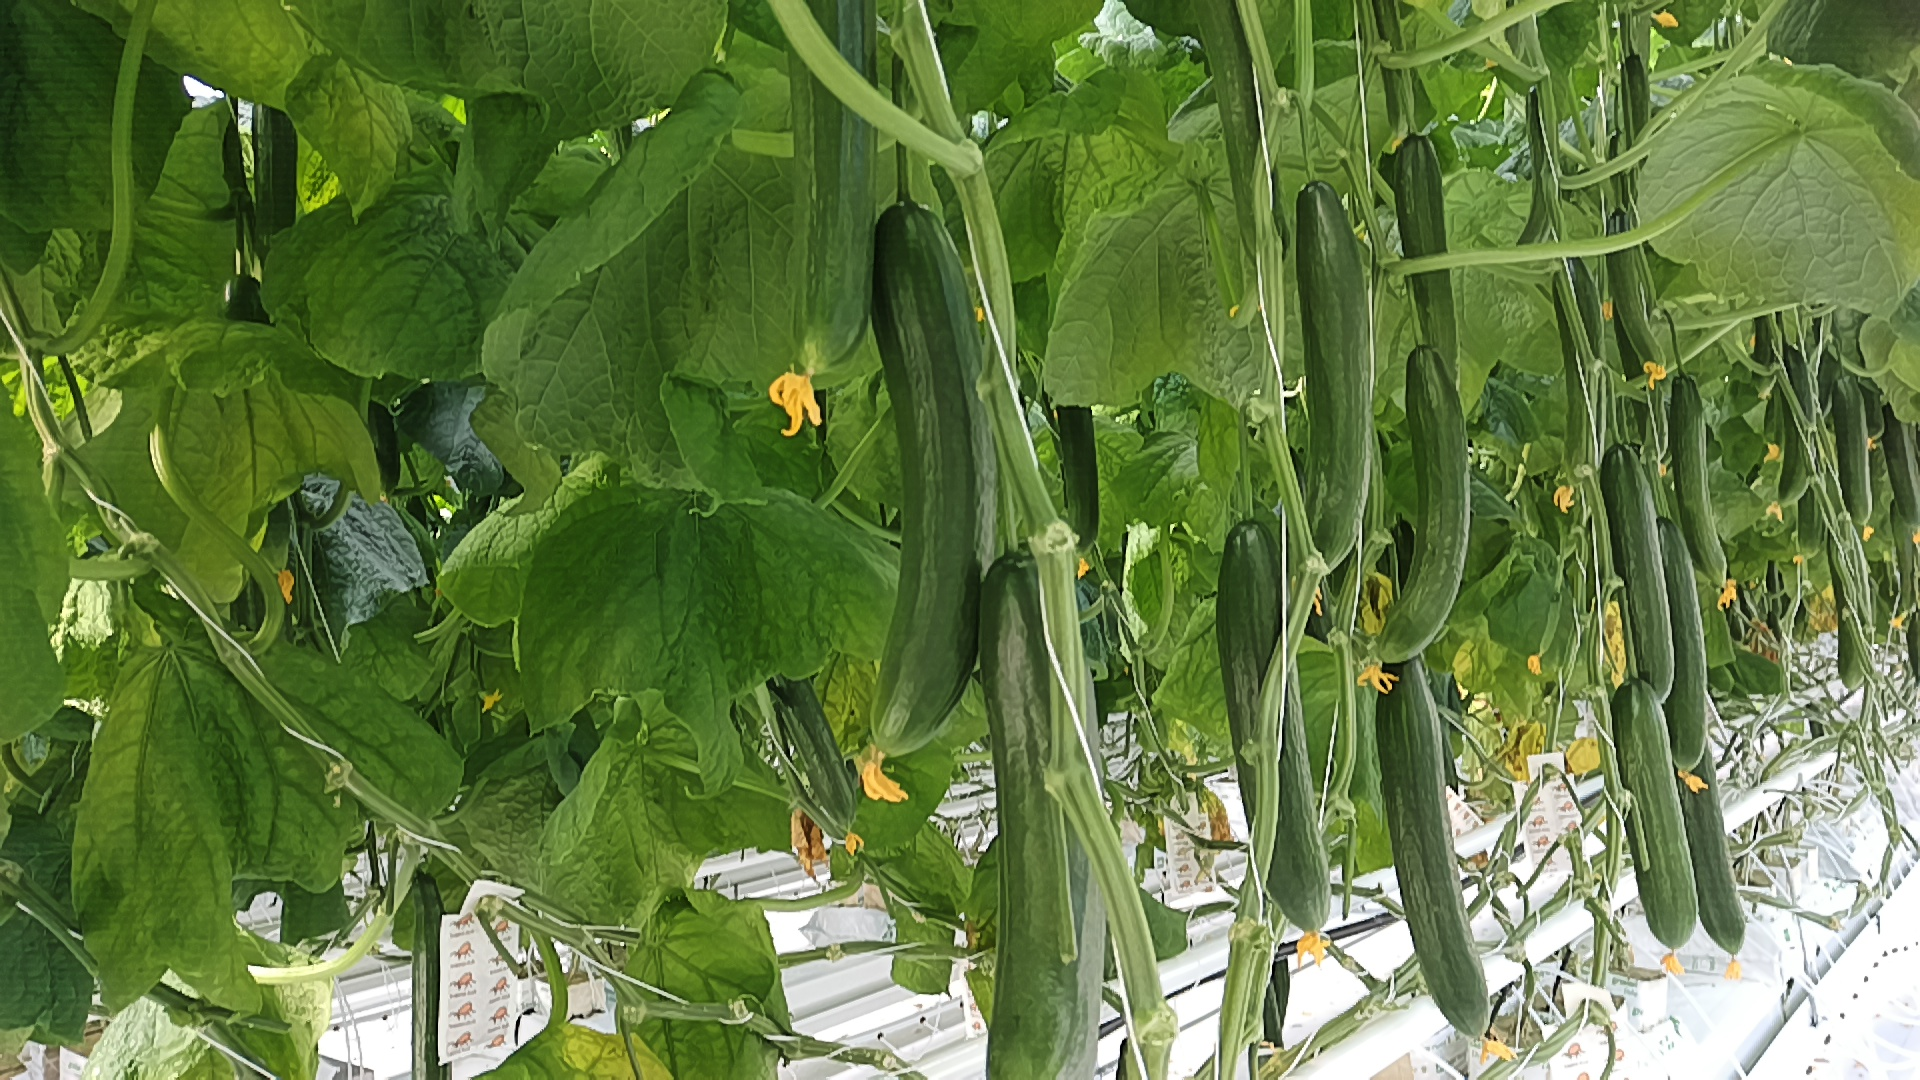gurka: (839, 186, 1026, 771), (1360, 621, 1539, 1047), (1199, 497, 1353, 943), (1366, 345, 1489, 661), (1604, 659, 1705, 959), (1379, 104, 1474, 419), (1584, 429, 1679, 713), (1642, 496, 1726, 795), (1543, 251, 1614, 506), (1667, 363, 1745, 588), (1816, 516, 1887, 694), (1818, 363, 1884, 533)
